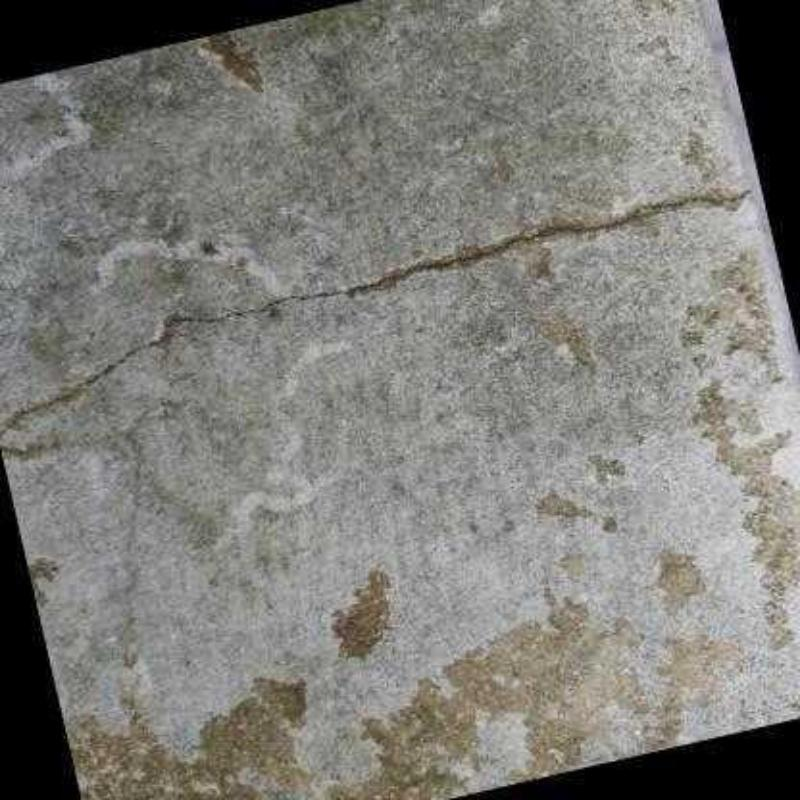pothole: (5, 188, 740, 429)
